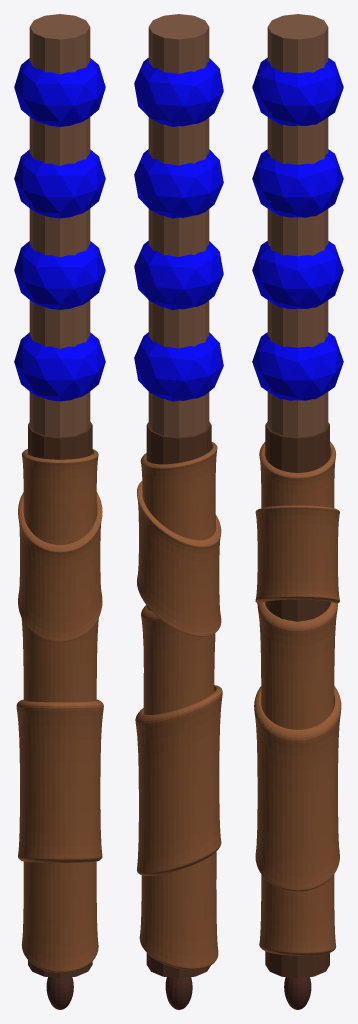
File: Wand 336.glb
The picture shows the model from 3 angles, left to right: view 1: azimuth 90°, elevation 25°; view 2: azimuth 150°, elevation 25°; view 3: azimuth 270°, elevation 25°; orthographic projection.
Parts seen in each view (by area): view 1: GeneratedWand; view 2: GeneratedWand; view 3: GeneratedWand.
Boxes of the visible parts, x1,y1,x2,y2 form: GeneratedWand: (14,14,105,1009); GeneratedWand: (134,14,223,1009); GeneratedWand: (252,14,343,1009).
Bounding box in the file's own units: 0.0408 × 0.5066 × 0.0428.
